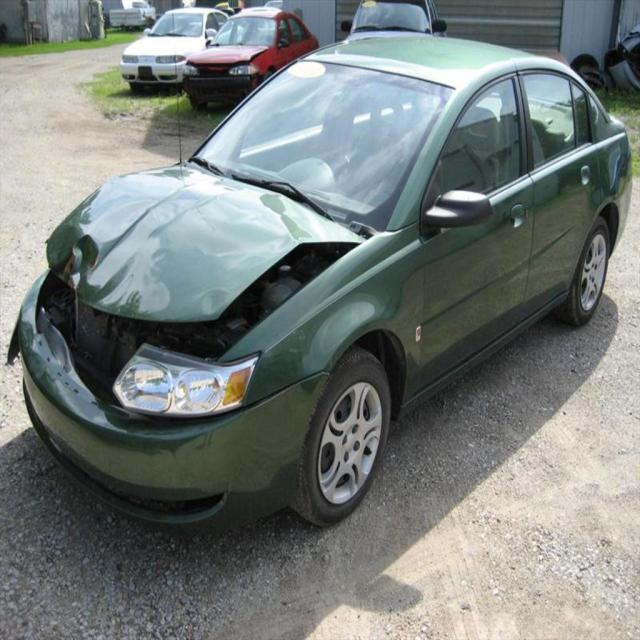Damage: (34, 198, 303, 463)
